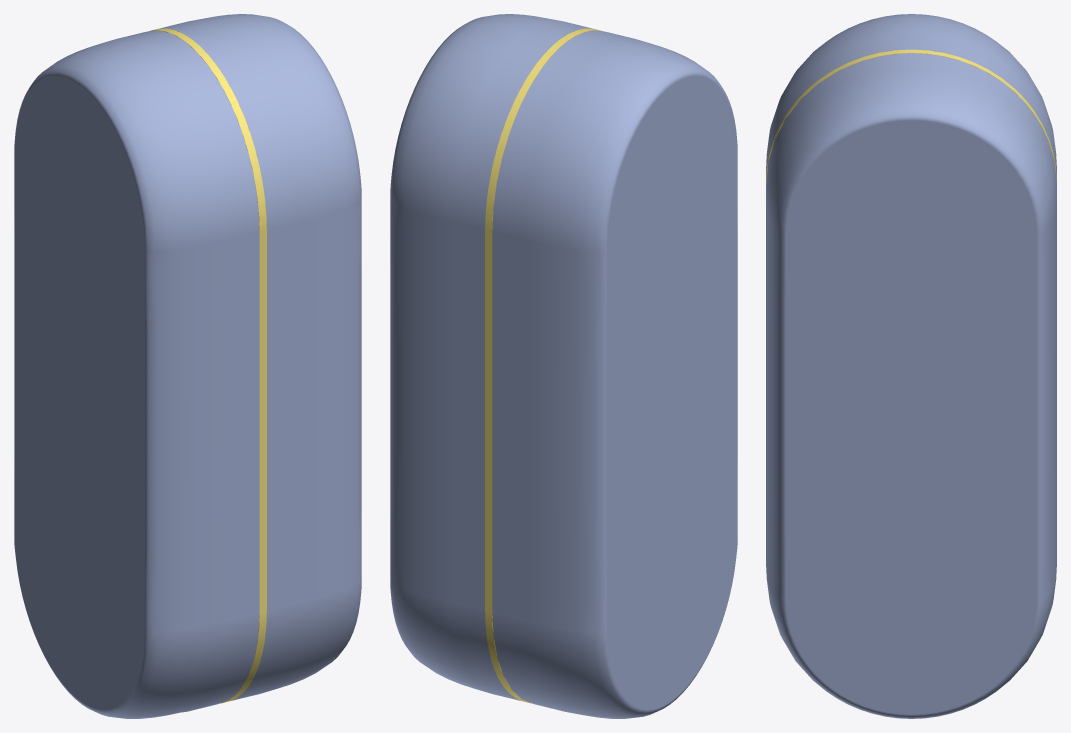
File: 小原子左肩.glb
3 renders of one model, left to right at view 1: azimuth 30°, elevation 25°; view 2: azimuth 150°, elevation 25°; view 3: azimuth 270°, elevation 25°, orthographic. The views are drawn at different scales.
Size of the model in its own units: 0.0589 by 0.1698 by 0.071.
